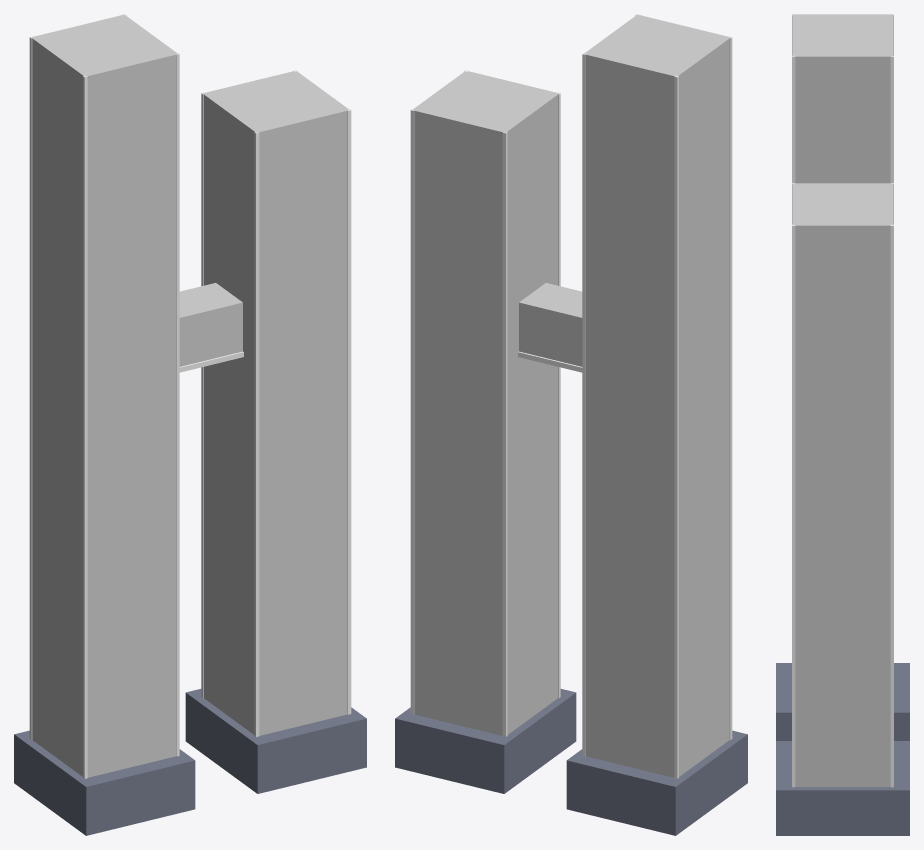
The model's file is Race_tower3.fbx.
The picture shows the model from 3 angles, left to right: view 1: azimuth 30°, elevation 25°; view 2: azimuth 150°, elevation 25°; view 3: azimuth 270°, elevation 25°; orthographic projection. The views are drawn at different scales.
Visible parts, largest first — view 1: Race_tower3; view 2: Race_tower3; view 3: Race_tower3.
Part boxes in pixels (<box>): Race_tower3: <box>14,14,366,835</box>; Race_tower3: <box>395,14,747,835</box>; Race_tower3: <box>776,14,909,835</box>.
Size of the model in its own units: 36 by 92 by 16.
